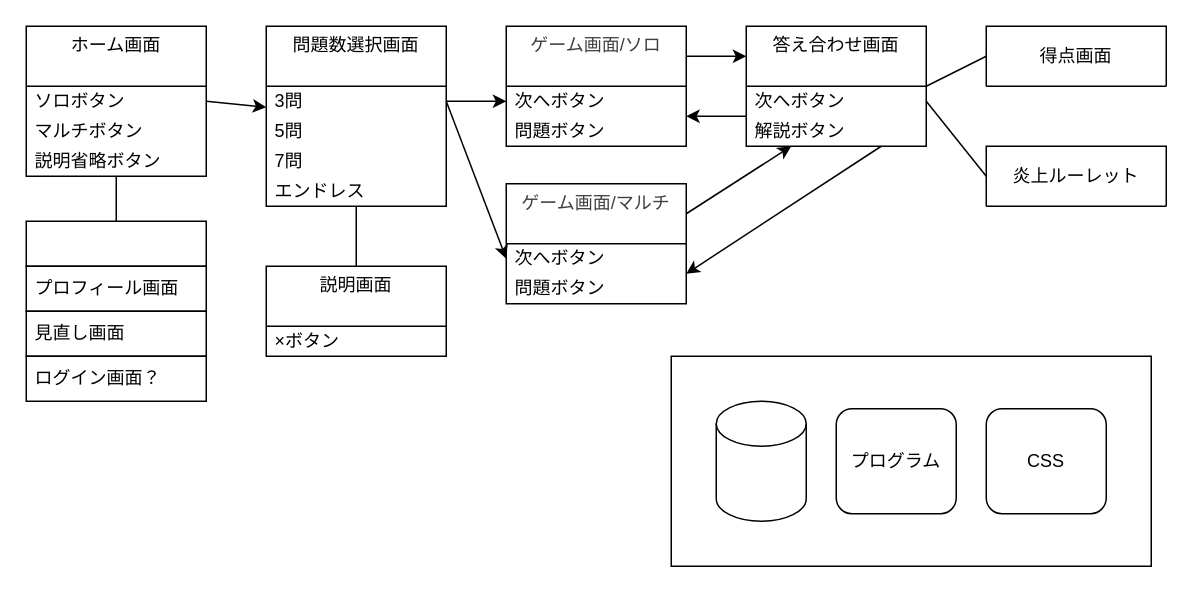
The diagram is 1193 pixels wide and 593 high, and some of its shapes have lost their labels. Each missing label, with the centre of its shape:
"DB" goes at (x=760, y=460).
"ランキング画面" goes at (x=115, y=243).
